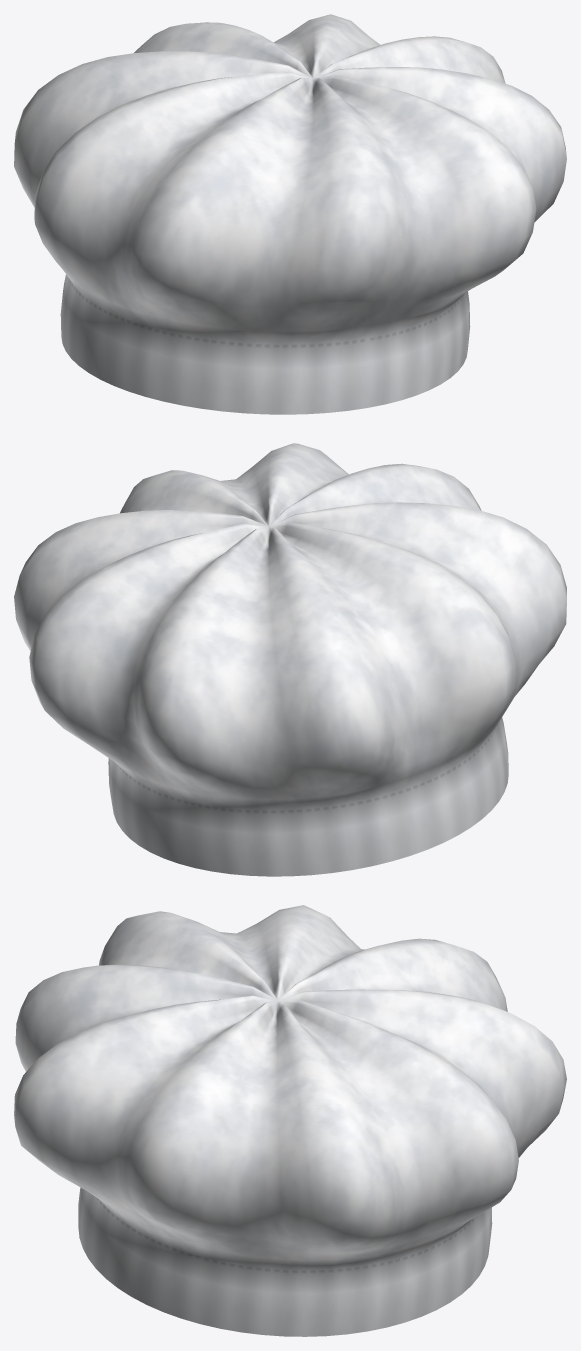
File: chef.glb
3 views of the same model, one above another, from view 1: azimuth 30°, elevation 25°; view 2: azimuth 150°, elevation 25°; view 3: azimuth 270°, elevation 25° (orthographic). The views are drawn at different scales.
Visible parts, largest first — view 1: Hat; view 2: Hat; view 3: Hat.
Boxes of the visible parts, x1=… form: Hat: x1=14, y1=14, x2=566, y2=414; Hat: x1=14, y1=443, x2=566, y2=876; Hat: x1=14, y1=905, x2=566, y2=1336.
Bounding box in the file's own units: 0.7296 × 0.4191 × 0.7147.
Materials: 1 (1 with a texture image).
